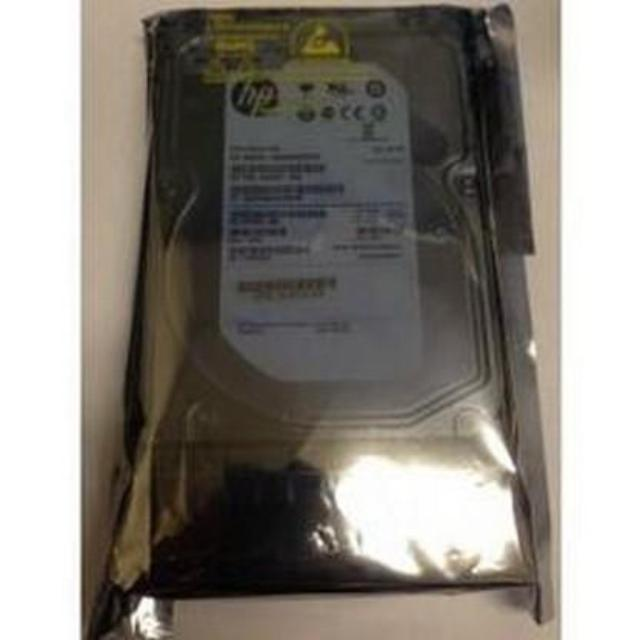DISK: (146, 10, 511, 452)
